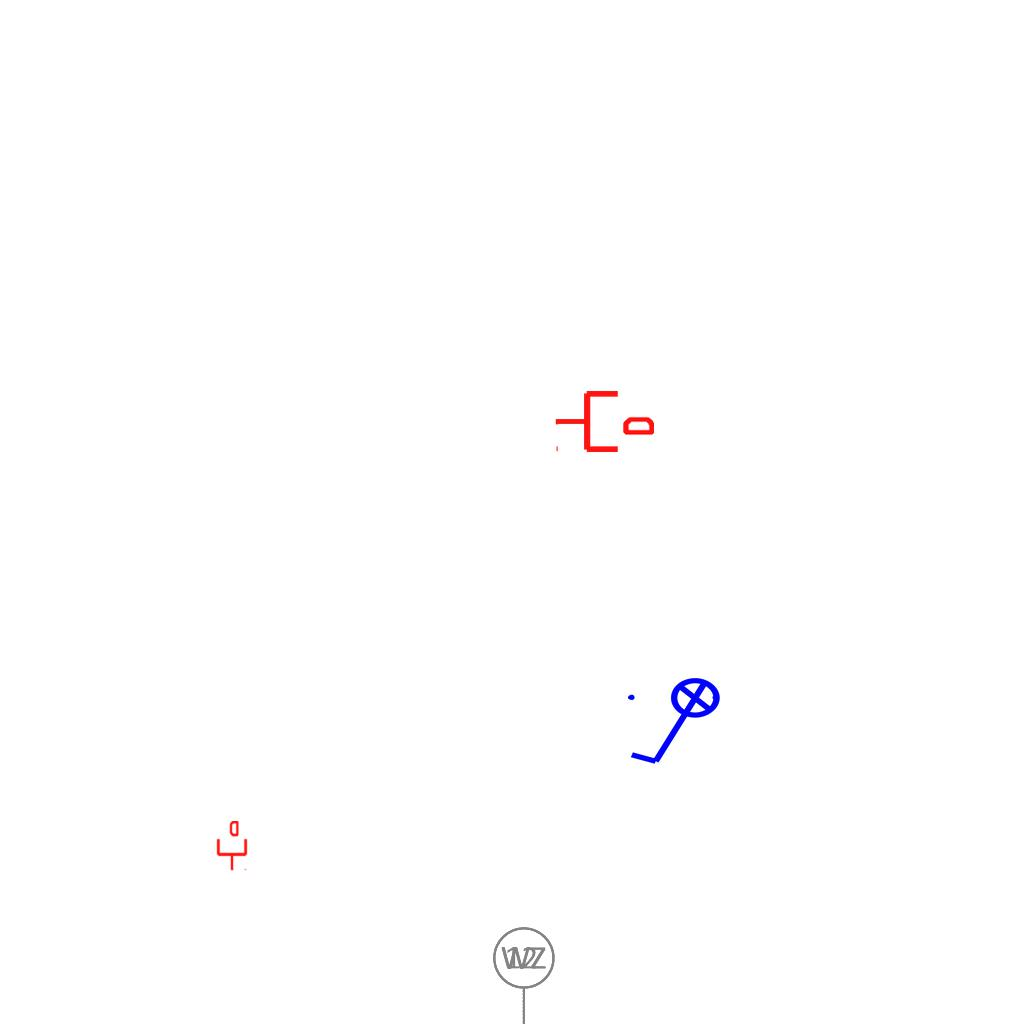Ausschalter_beleuchtet: (622, 676, 734, 772)
Datenanschluss_einfach: (554, 387, 654, 456), (215, 821, 249, 871)
